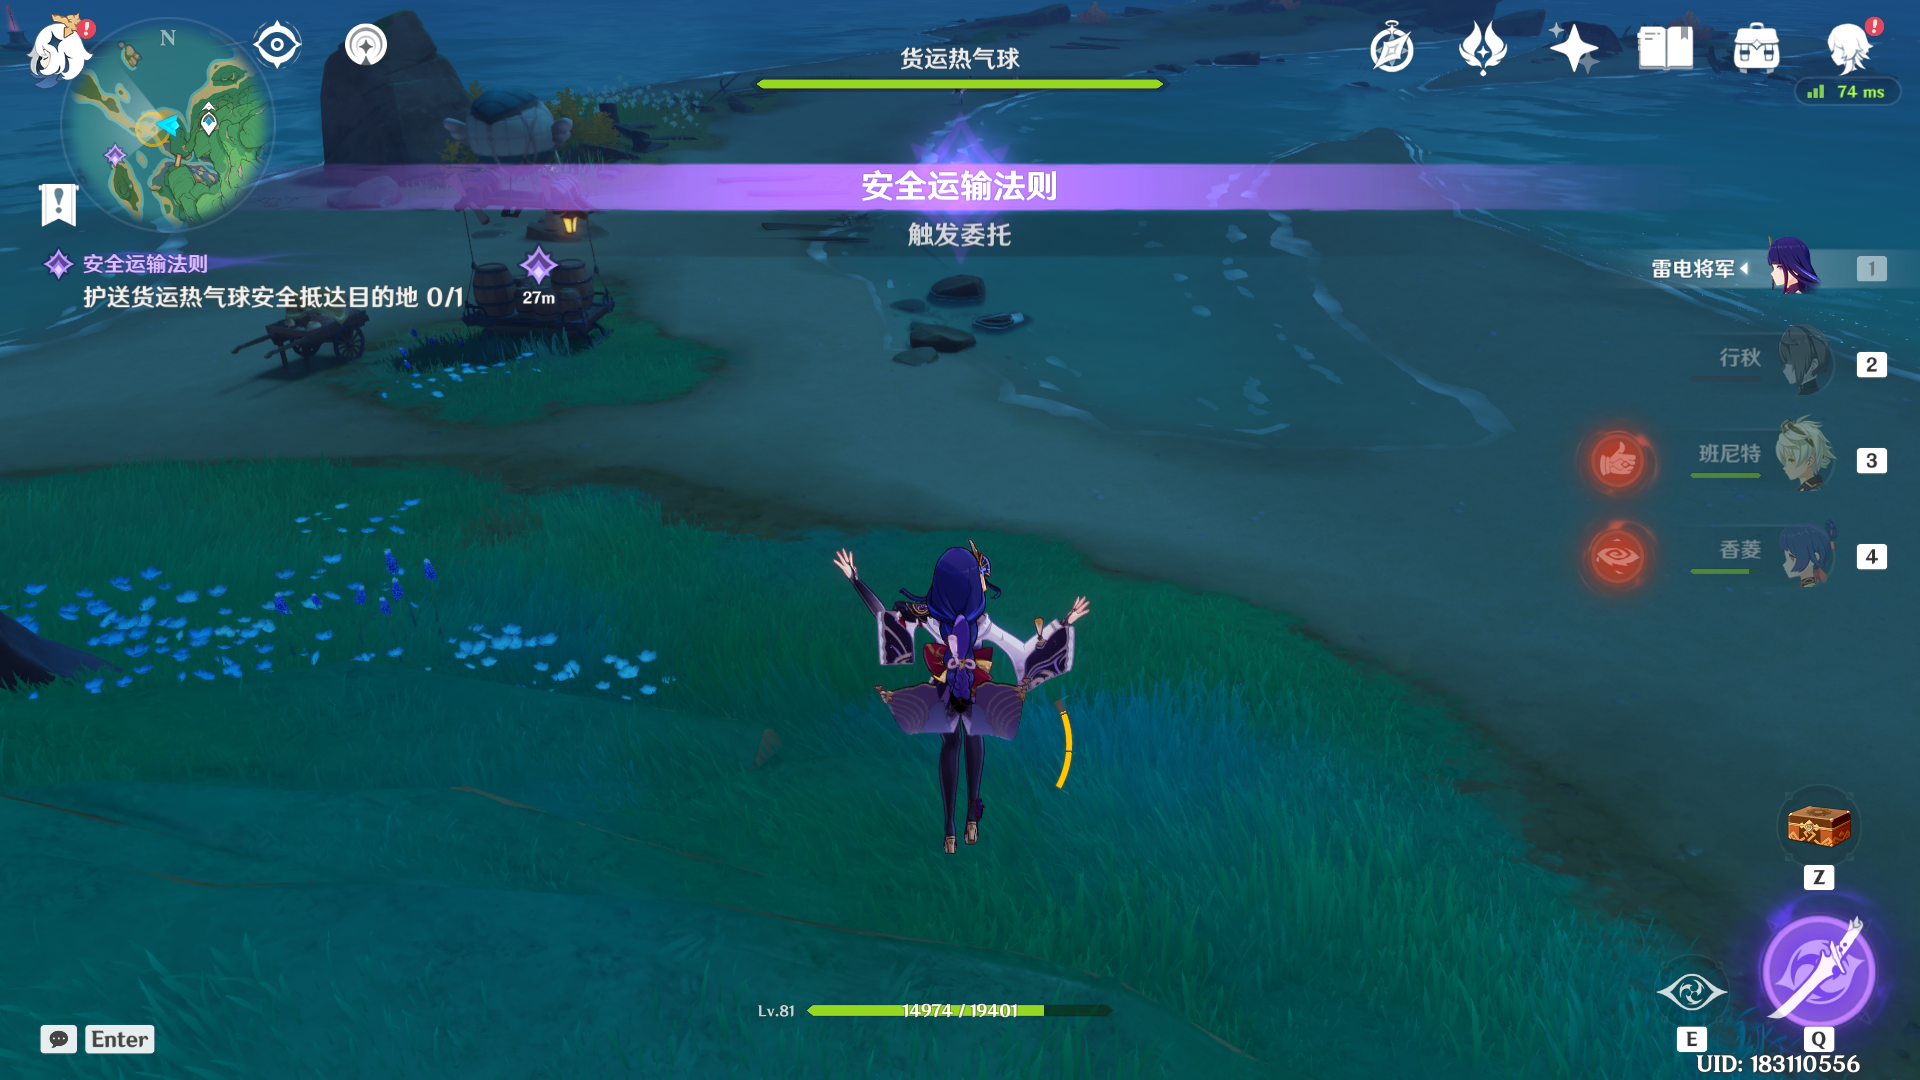character: (825, 480, 1101, 899)
